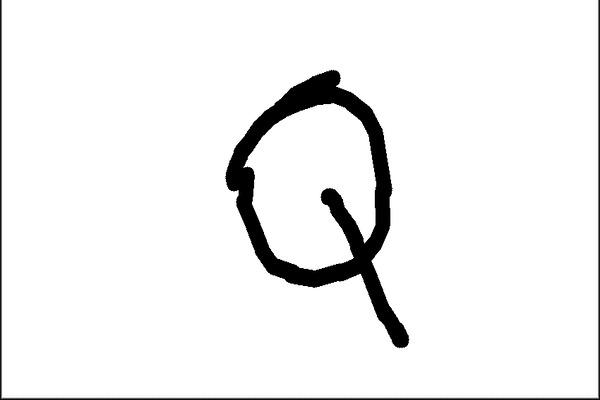Q: (210, 66, 438, 357)
